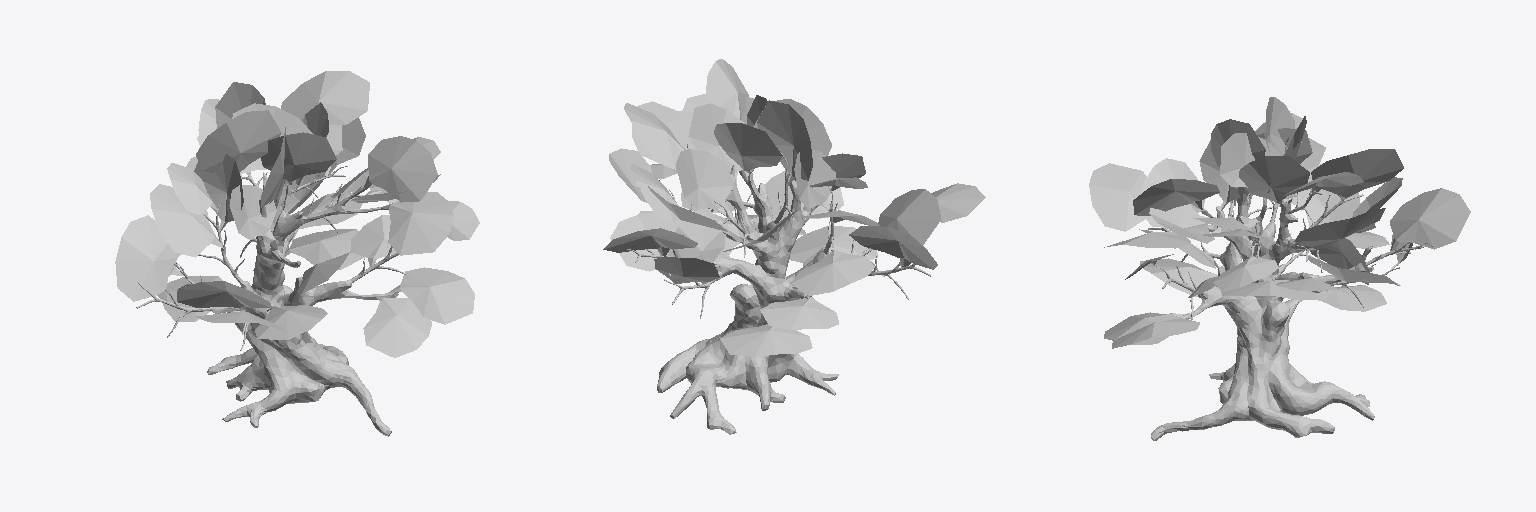
Rendered from old_tree.obj.
The picture shows the model from 3 angles: view 1: azimuth 30°, elevation 25°; view 2: azimuth 150°, elevation 25°; view 3: azimuth 270°, elevation 25°; orthographic projection.
Visible parts, largest first — view 1: branches_4, tree1; view 2: branches_4, tree1; view 3: branches_4, tree1.
Boxes of the visible parts, x1=… form: branches_4: x1=115, y1=71, x2=479, y2=357; tree1: x1=136, y1=117, x2=405, y2=436; branches_4: x1=603, y1=59, x2=985, y2=356; tree1: x1=627, y1=144, x2=930, y2=434; branches_4: x1=1089, y1=97, x2=1470, y2=348; tree1: x1=1148, y1=137, x2=1432, y2=440.
Bounding box in the file's own units: 24.05 × 22.57 × 25.78.